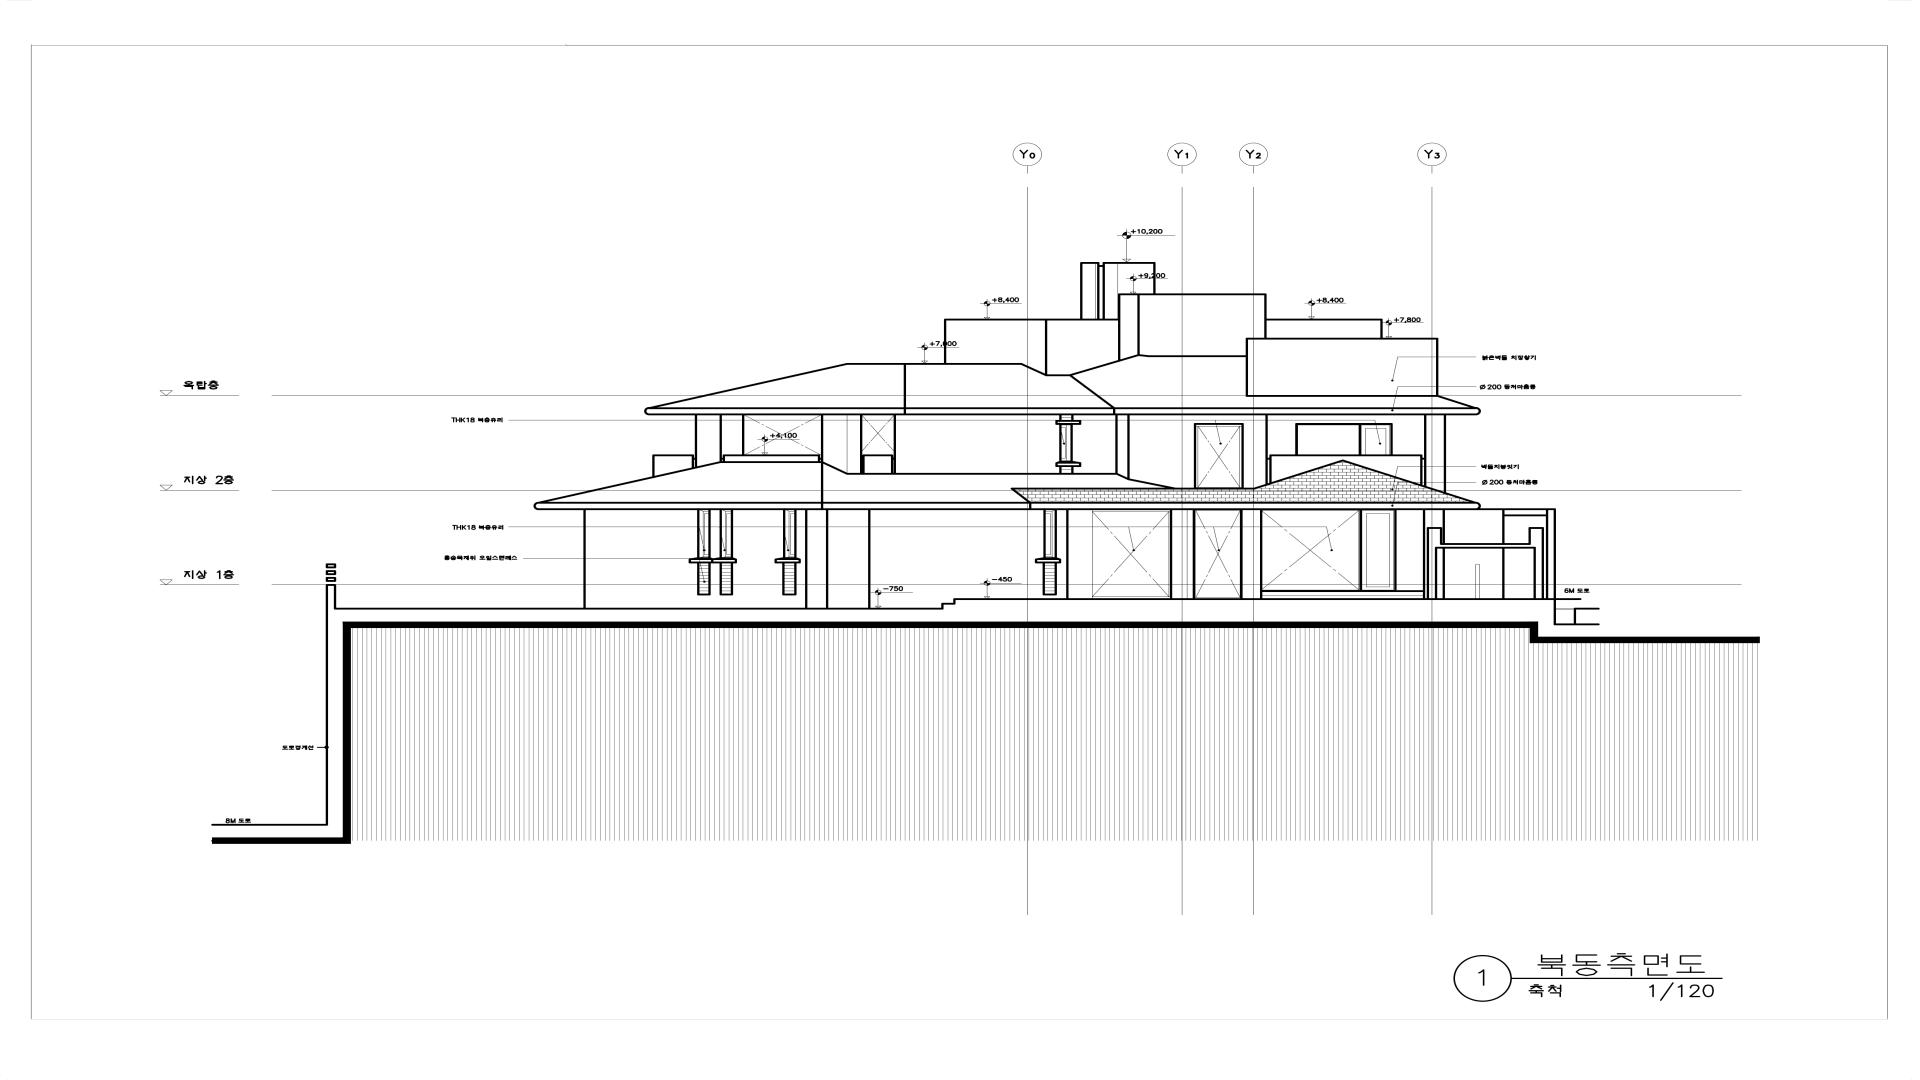wall: (533, 261, 1600, 637)
window: (1262, 510, 1360, 591), (1092, 512, 1170, 597), (1195, 510, 1241, 599), (742, 415, 823, 455), (1295, 423, 1393, 455), (1196, 425, 1242, 488), (1362, 510, 1394, 589), (860, 415, 897, 454), (1043, 510, 1058, 558), (698, 510, 711, 558), (720, 510, 733, 558), (783, 510, 796, 558), (1059, 425, 1073, 462)
